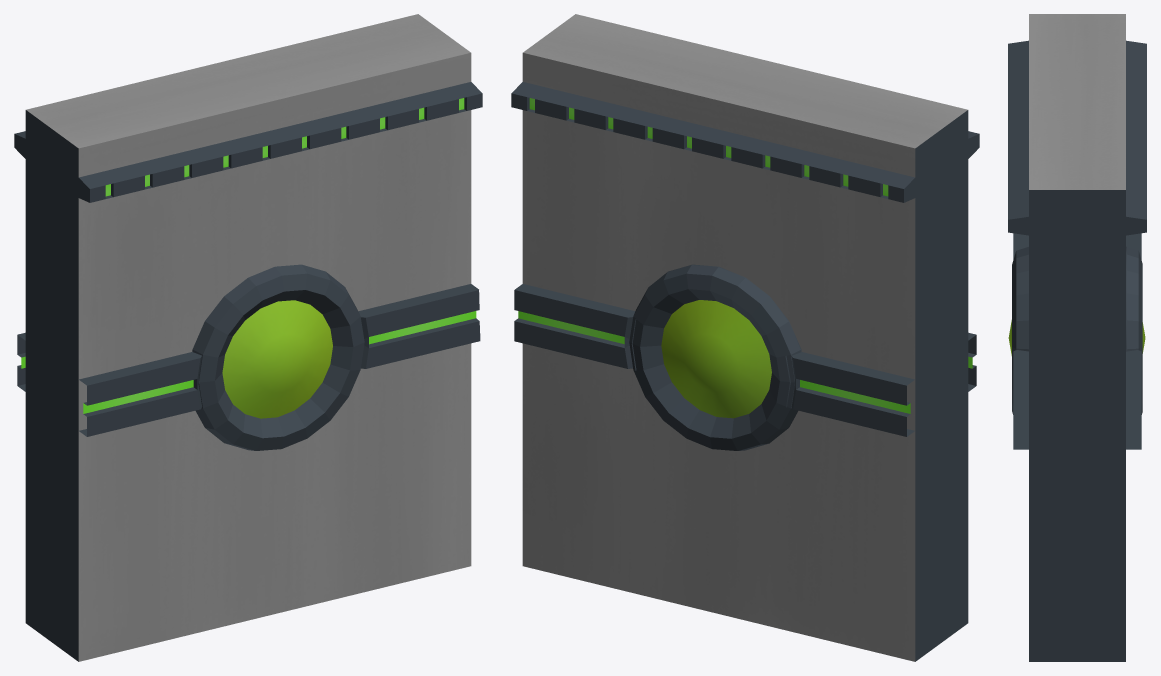
The model's file is light wall.fbx.
The picture shows the model from 3 angles, left to right: view 1: azimuth 30°, elevation 25°; view 2: azimuth 150°, elevation 25°; view 3: azimuth 270°, elevation 25°; orthographic projection. The views are drawn at different scales.
Visible parts, largest first — view 1: polySurface30; view 2: polySurface30; view 3: polySurface30.
Part boxes in pixels (<box>): polySurface30: <box>14,14,482,661</box>; polySurface30: <box>511,14,979,661</box>; polySurface30: <box>1008,14,1146,661</box>.
Size of the model in its own units: 2.22 by 2.77 by 0.7379.
